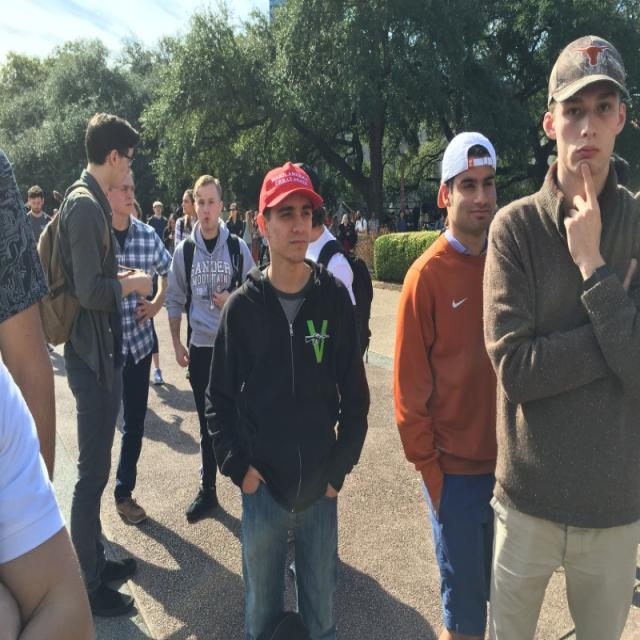body: (482, 27, 639, 640), (202, 157, 374, 639), (24, 109, 161, 626), (391, 127, 505, 640), (0, 134, 99, 639), (287, 159, 376, 578), (164, 172, 258, 522), (104, 166, 174, 526), (129, 198, 165, 388), (324, 205, 450, 248), (146, 199, 170, 300), (239, 210, 271, 273), (225, 201, 247, 291), (173, 187, 198, 250), (26, 185, 52, 243), (161, 211, 179, 258), (248, 215, 262, 270), (240, 209, 254, 260), (338, 212, 354, 254), (354, 209, 368, 237), (394, 208, 409, 234), (260, 234, 270, 266), (366, 208, 379, 229)
